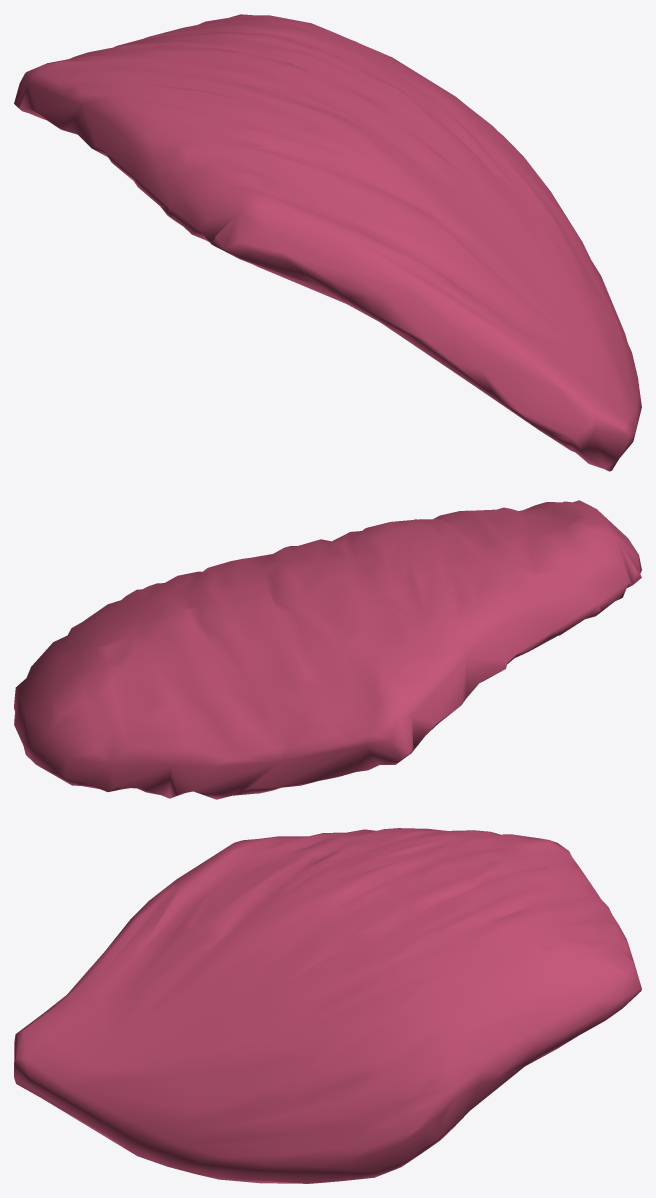
3 renders of one model, top to bottom at view 1: azimuth 30°, elevation 25°; view 2: azimuth 150°, elevation 25°; view 3: azimuth 270°, elevation 25°, orthographic. The views are drawn at different scales.
Parts seen in each view (by area): view 1: 左侧环杓后肌; view 2: 左侧环杓后肌; view 3: 左侧环杓后肌.
Boxes of the visible parts, left/top/right/bottom form: 左侧环杓后肌: left=14, top=14, right=641, bottom=471; 左侧环杓后肌: left=14, top=500, right=641, bottom=799; 左侧环杓后肌: left=14, top=828, right=641, bottom=1183.
Bounding box in the file's own units: 0.0134 × 0.00845 × 0.0212.
